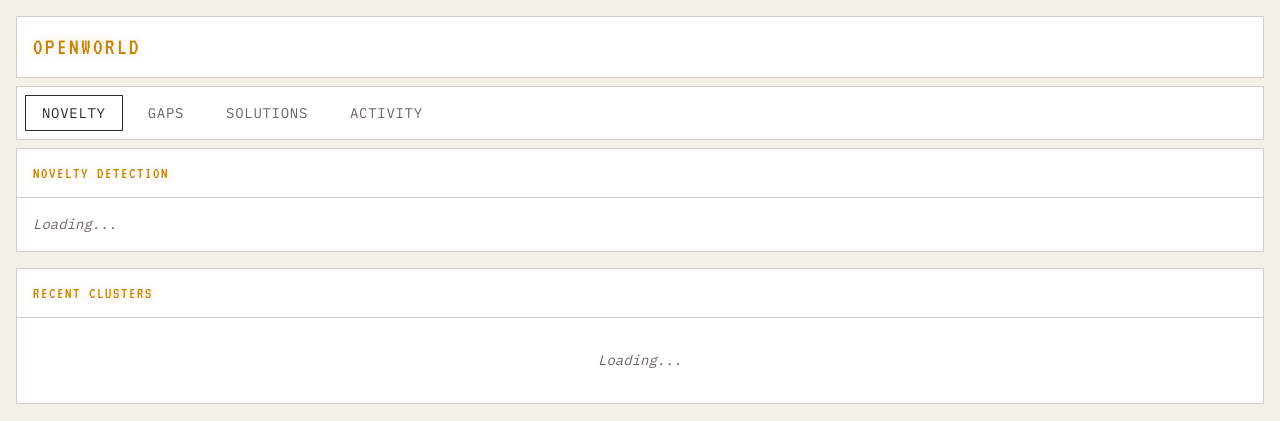
Test case: DashboardOpenWorld › Gaps tab content › shows loading state initially
What coordinates should you click on to do the following:
click the button "Gaps"
I would click on:
 (166, 113)
Its box is 131,95 -> 201,131.
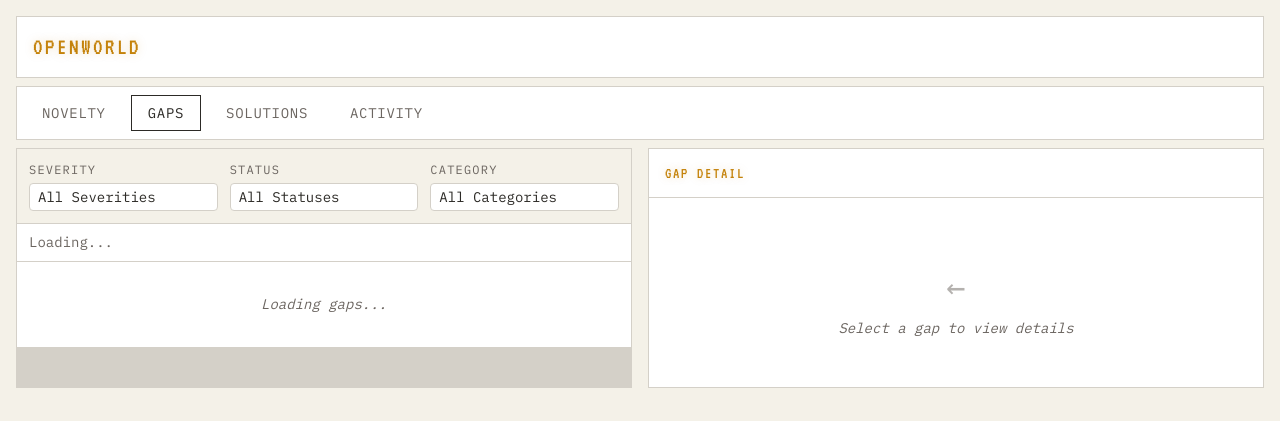
Expected: the text "Loading gaps..." is shown, 261,294 -> 387,315
